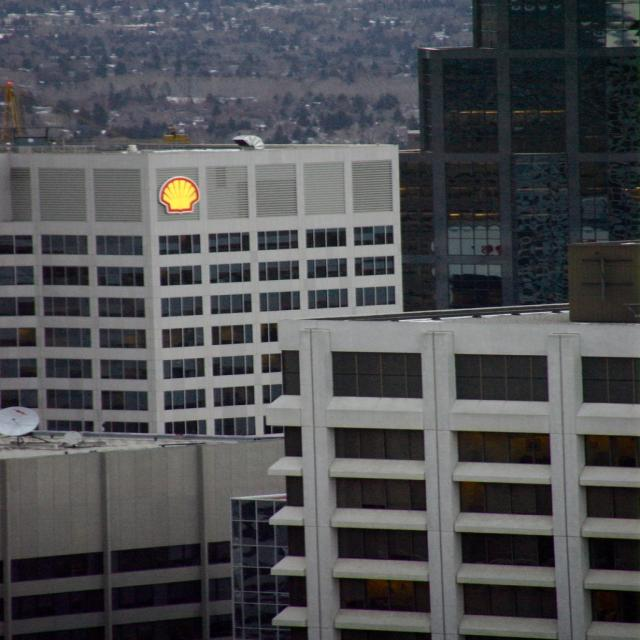shell: (157, 177, 204, 215)
